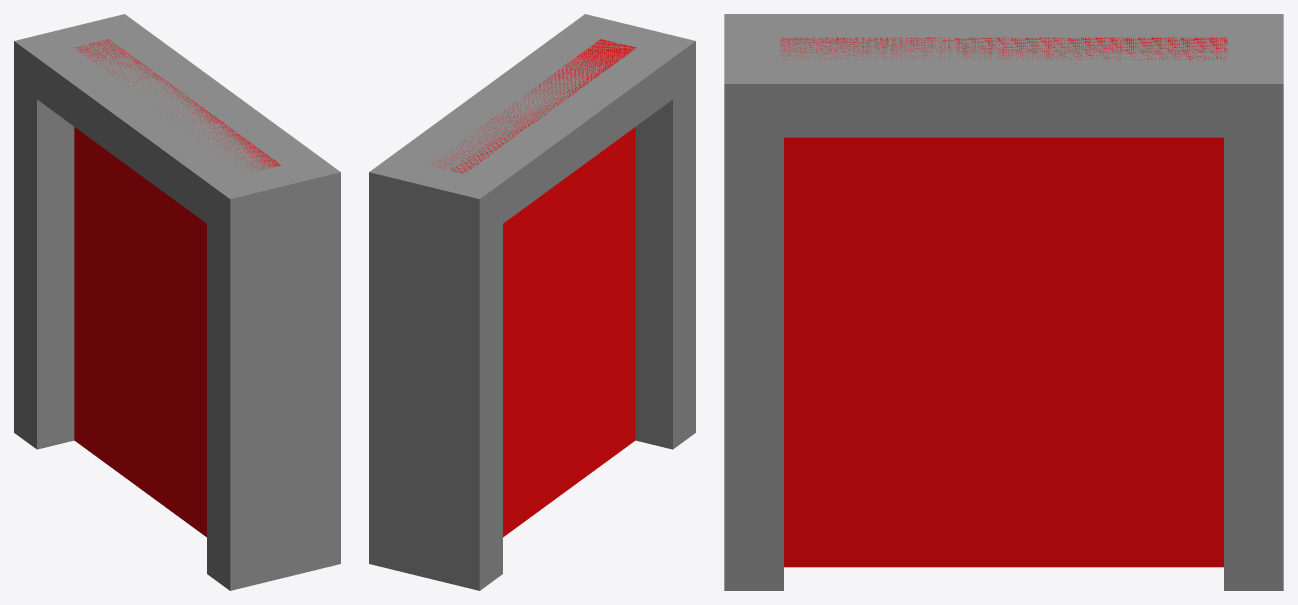
Rendered from Door.fbx.
3 renders of one model, left to right at view 1: azimuth 30°, elevation 25°; view 2: azimuth 150°, elevation 25°; view 3: azimuth 270°, elevation 25°, orthographic. The views are drawn at different scales.
Visible parts, largest first — view 1: arch, door; view 2: arch, door; view 3: door, arch.
Boxes of the visible parts, x1=… form: arch: x1=14, y1=14, x2=340, y2=590; door: x1=74, y1=39, x2=281, y2=537; arch: x1=369, y1=14, x2=695, y2=590; door: x1=432, y1=39, x2=636, y2=537; door: x1=780, y1=37, x2=1227, y2=567; arch: x1=724, y1=14, x2=1283, y2=590.
Bounding box in the file's own units: 59.18 × 200 × 200.
